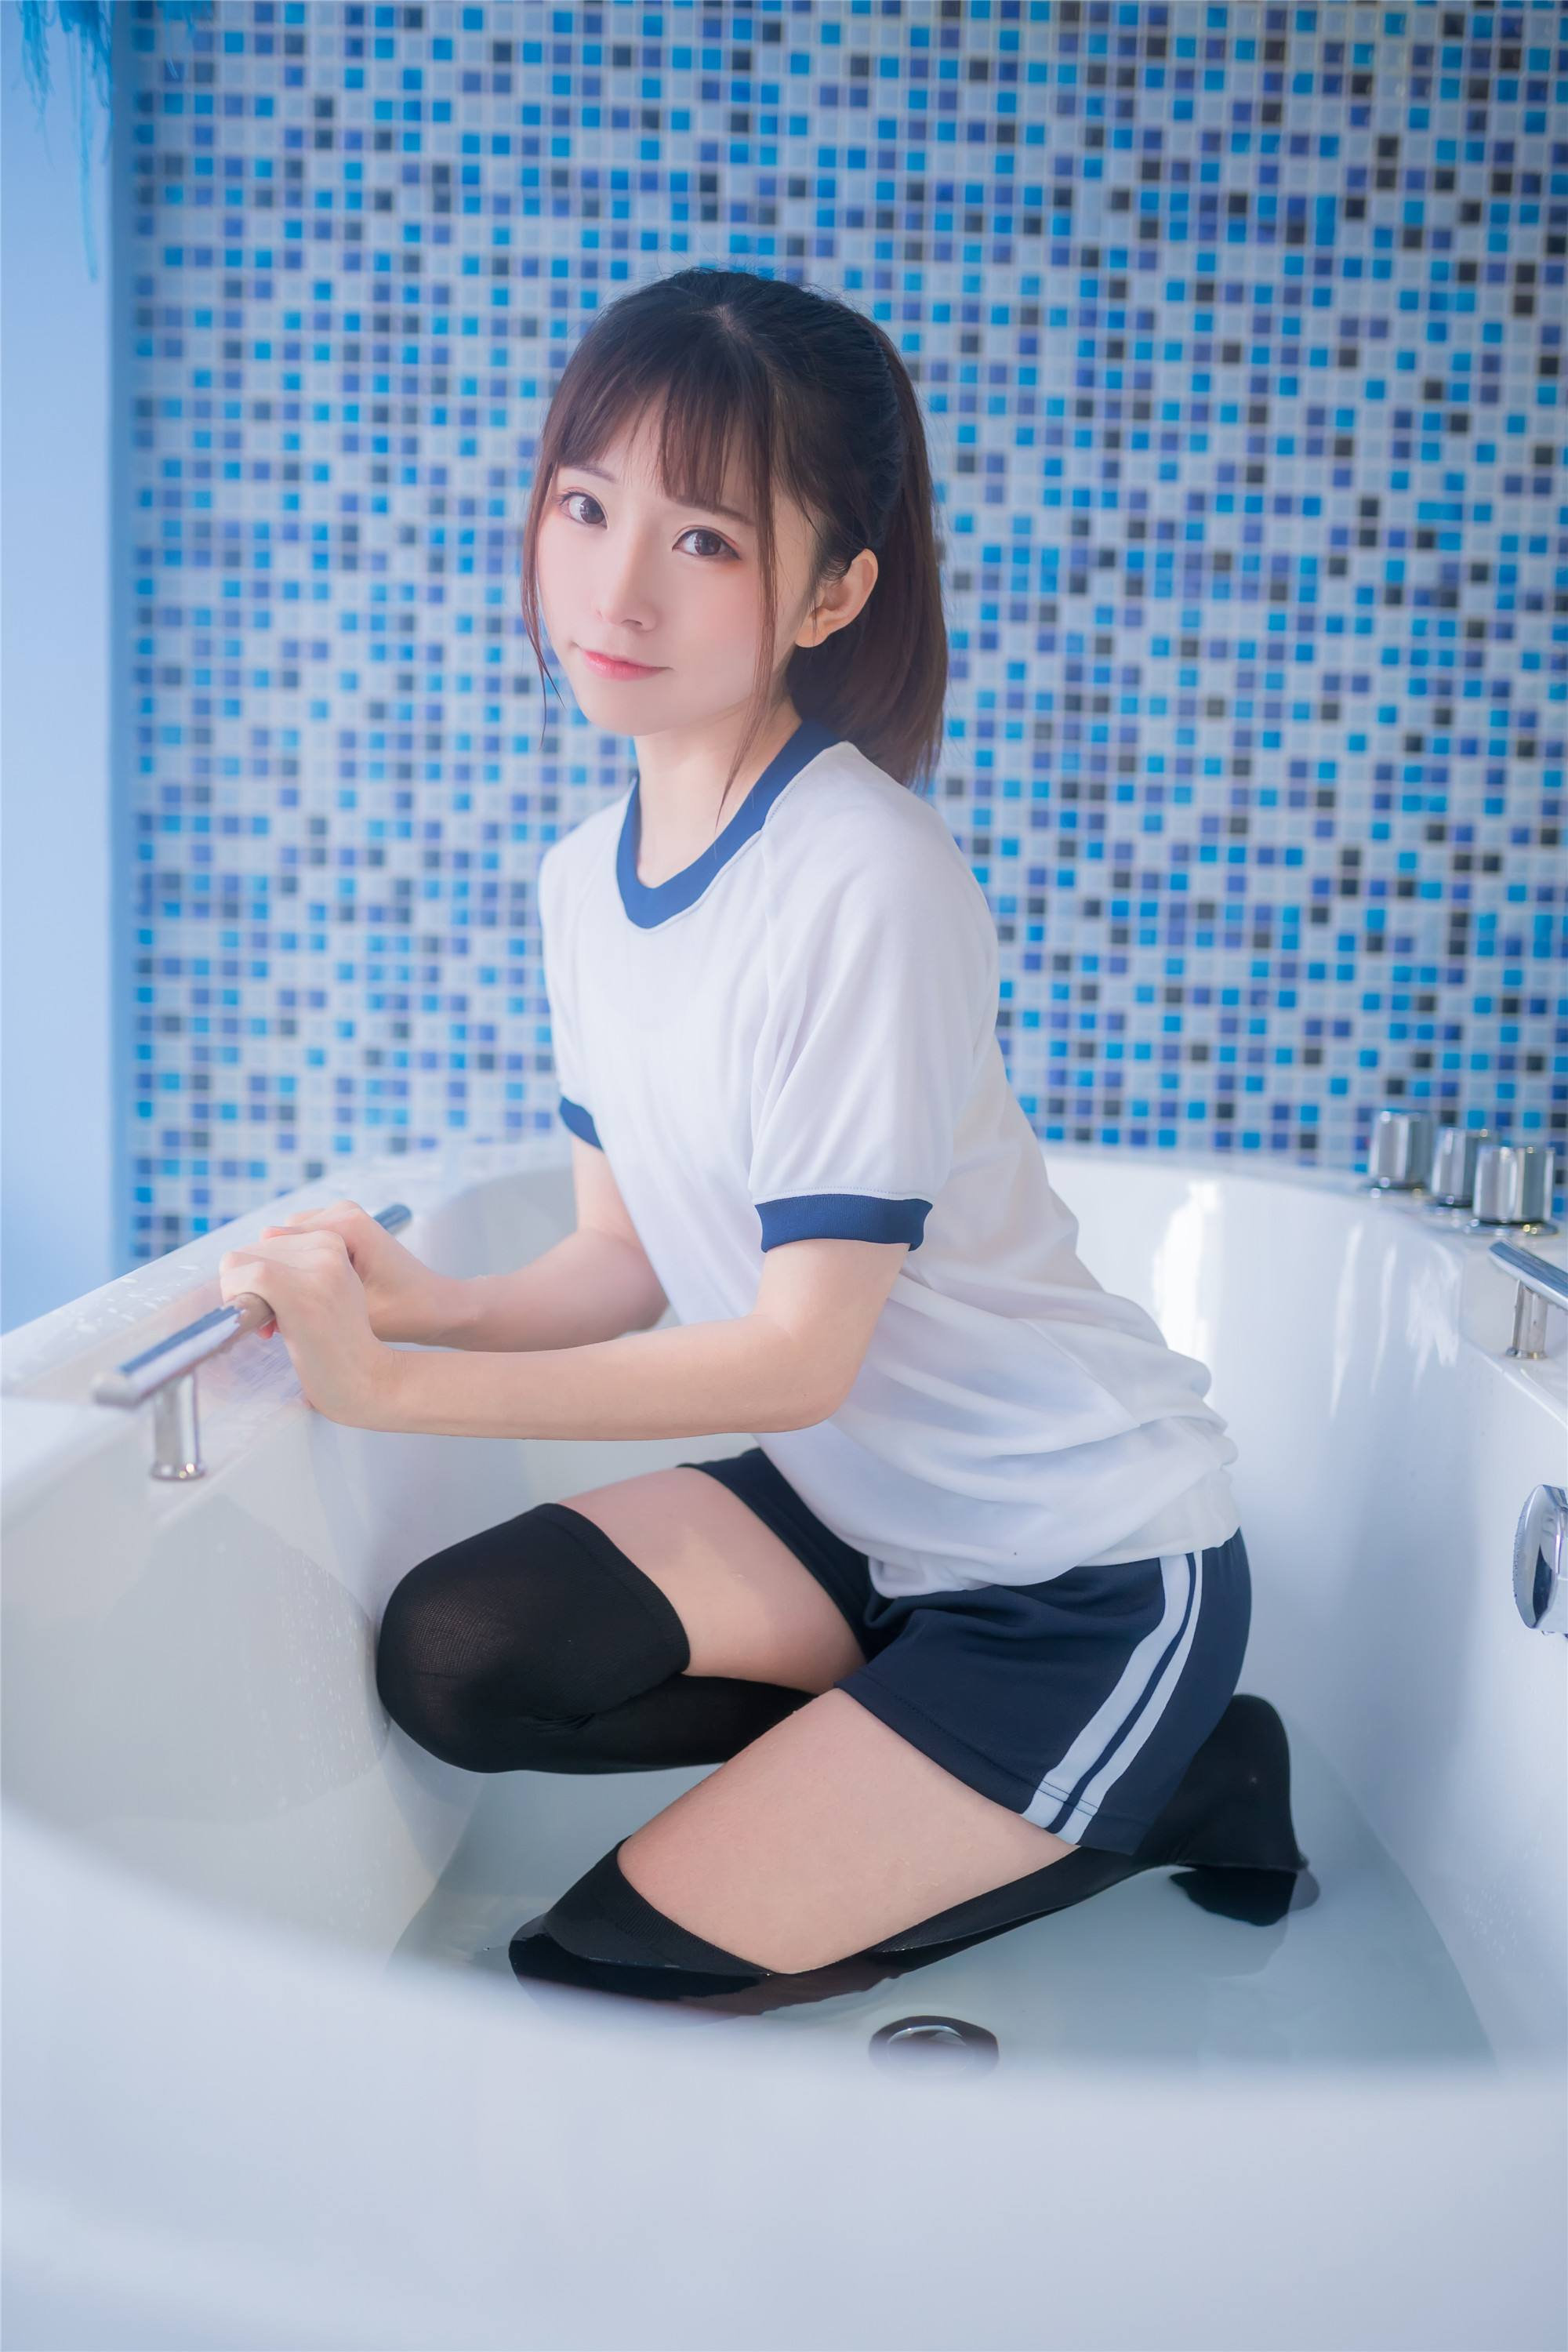person: (330, 305, 1336, 1866)
